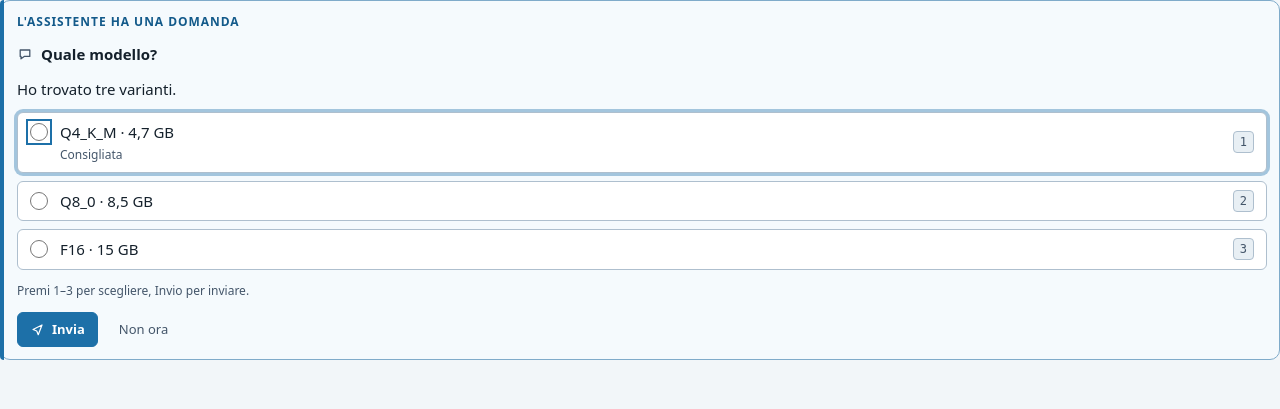
Scenario: QuestionCard: a choice › without a choice it asks for one and sends nothing
Click the button "Invia". click: (57, 329)
box: [17, 312, 98, 347]
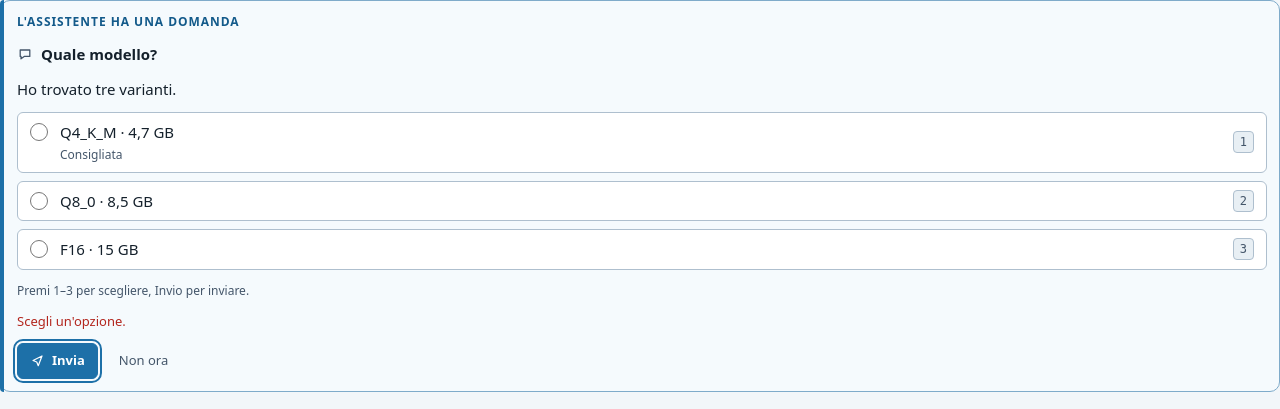
Result: the message shows "Scegli un'opzione" at [17, 312, 126, 330]
